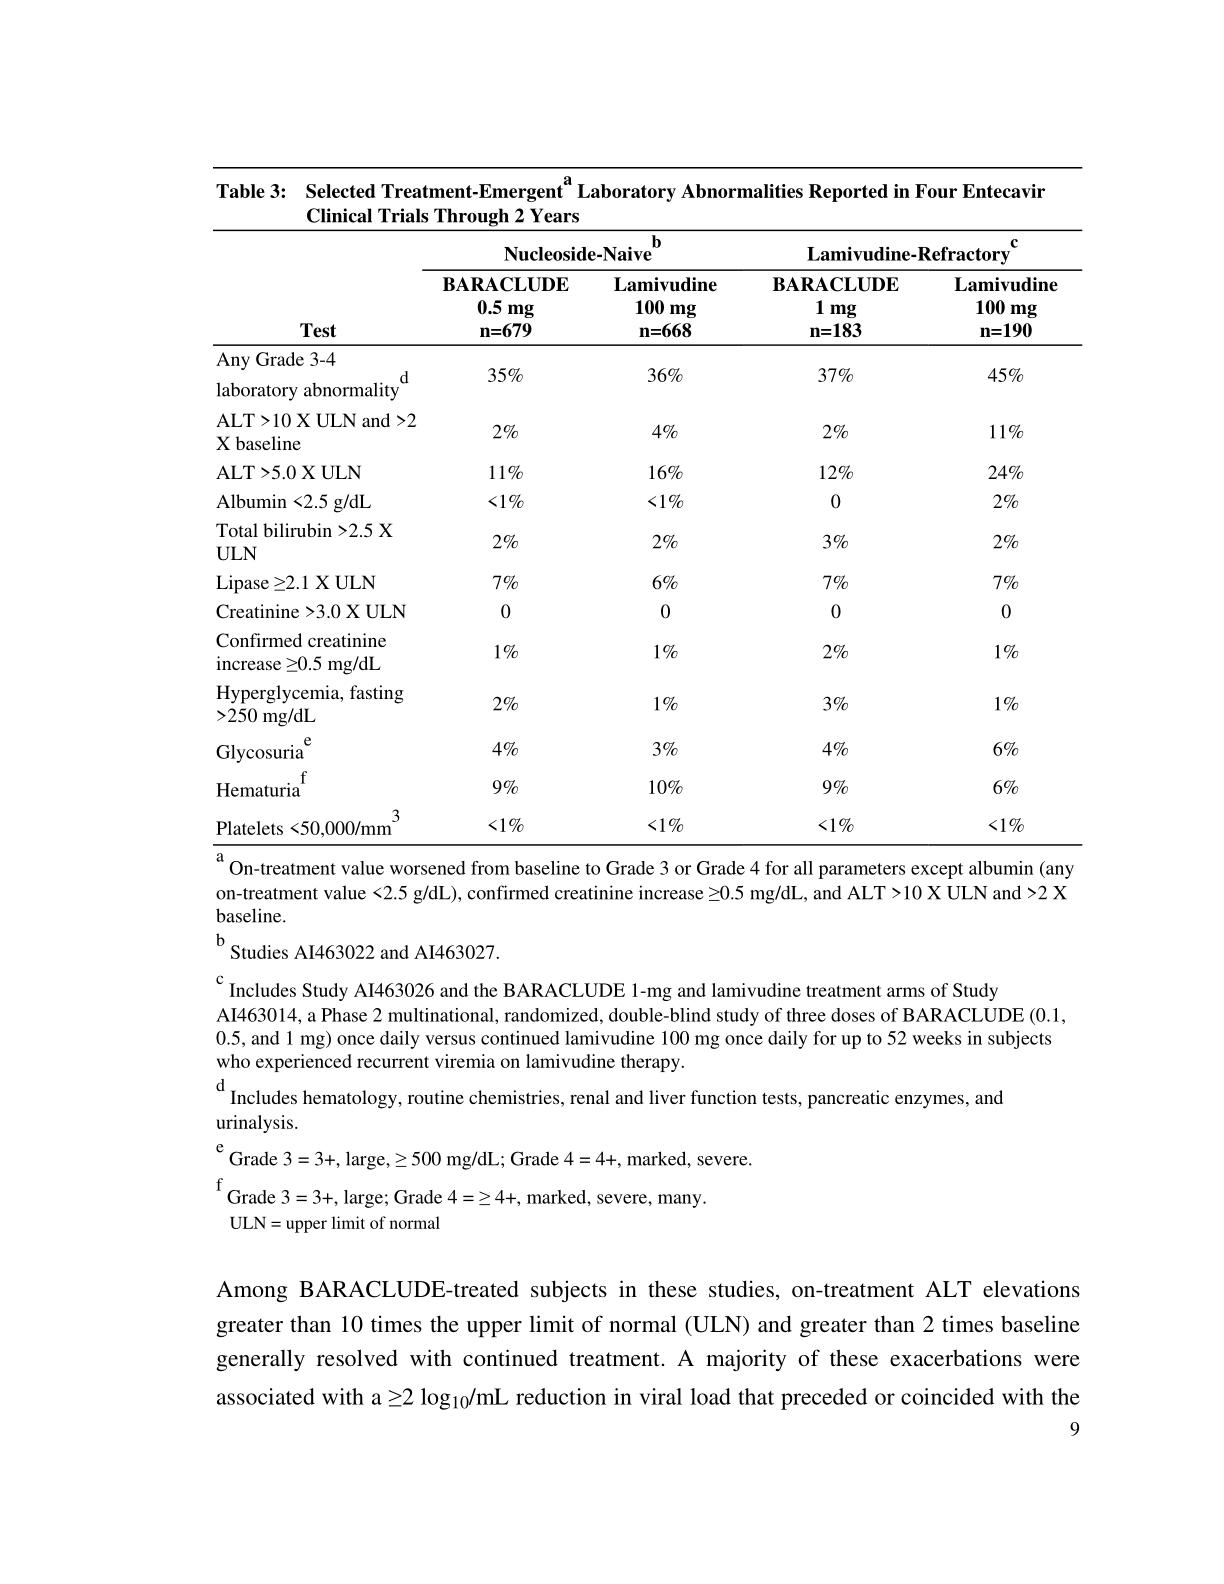partial_lined_merged_cells: (210, 165, 1084, 847)
